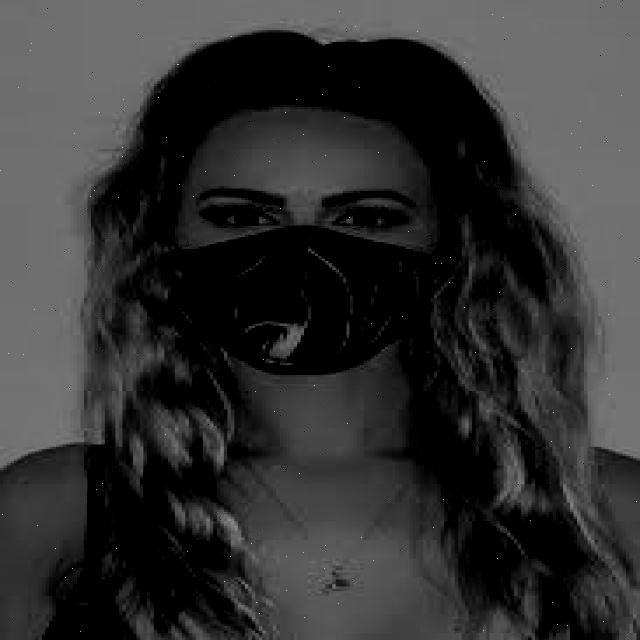fake: (168, 226, 457, 372)
real: (185, 107, 443, 381)
